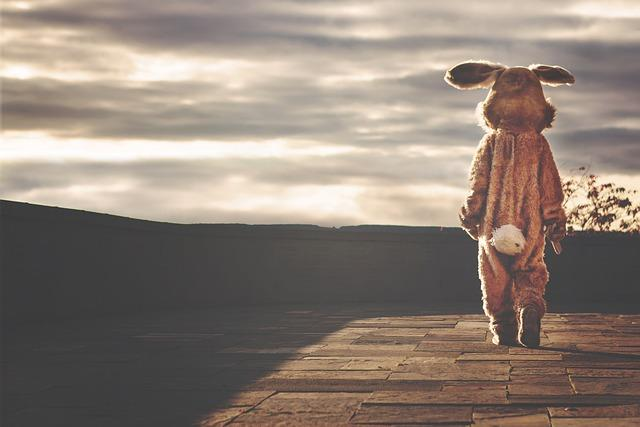Non_Gorille: (397, 15, 618, 366)
